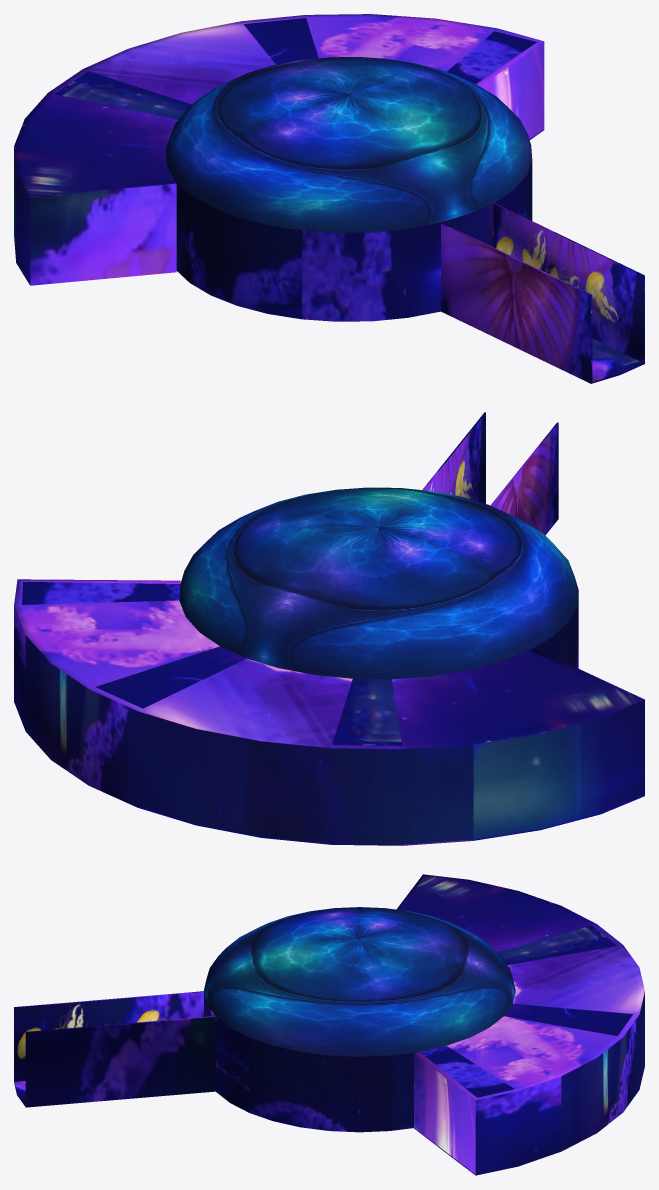
Rendered from jellyfishmusium.fbx.
3 renders of one model, top to bottom at view 1: azimuth 30°, elevation 25°; view 2: azimuth 150°, elevation 25°; view 3: azimuth 270°, elevation 25°, orthographic. The views are drawn at different scales.
Parts seen in each view (by area): view 1: 圆环, 球体.001; view 2: 圆环, 球体.001; view 3: 圆环, 球体.001.
Part boxes in pixels (x1,y1,x2,y2): 圆环: [14, 14, 644, 383]; 球体.001: [165, 57, 532, 232]; 圆环: [14, 412, 644, 845]; 球体.001: [179, 487, 578, 679]; 圆环: [14, 874, 644, 1175]; 球体.001: [204, 907, 515, 1056].
Size of the model in its own units: 2570 by 678 by 3033.
Materials: 9 (3 with a texture image).
